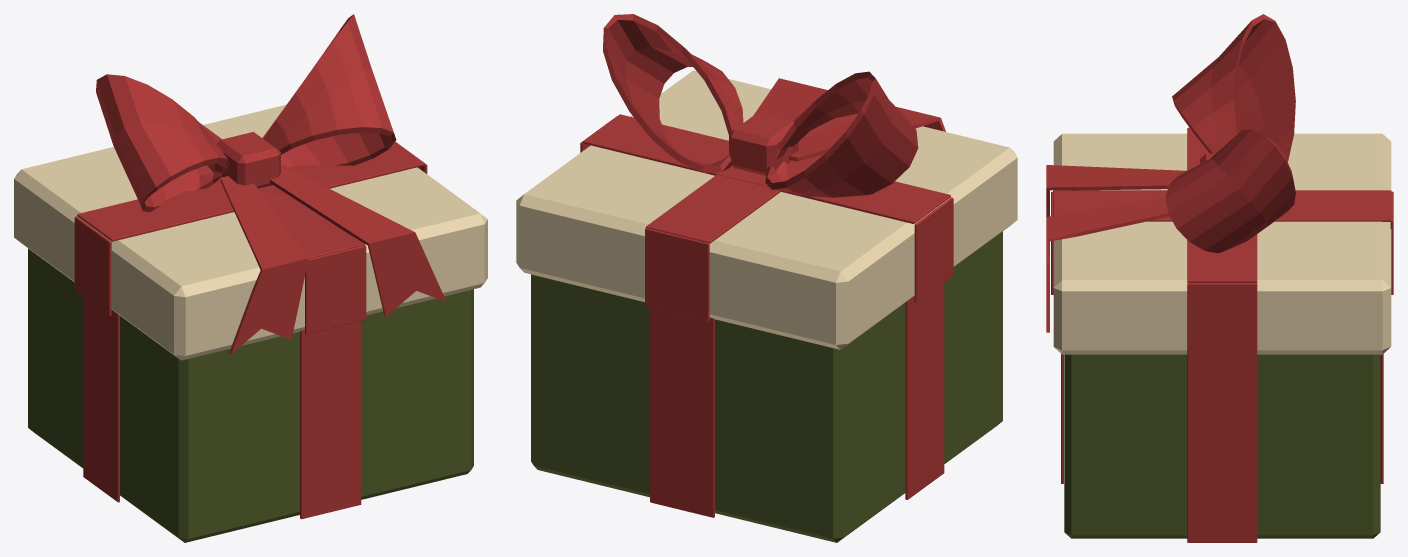
The model's file is 10 Christmas Gift Box.glb.
3 views of the same model, side by side, from view 1: azimuth 30°, elevation 25°; view 2: azimuth 150°, elevation 25°; view 3: azimuth 270°, elevation 25° (orthographic). The views are drawn at different scales.
Parts seen in each view (by area): view 1: Green box, Ivory lid, Vertical red wrapping.001, Folded dimensional red bow loop.001, Folded dimensional red bow loop, Draped red bow tail.001, Draped red bow tail, Top ribbon east west, Side red wrapping.001, Lid ribbon edge.001, Lid side ribbon.001, Top ribbon north south (+1 smaller); view 2: Green box, Ivory lid, Vertical red wrapping, Folded dimensional red bow loop, Folded dimensional red bow loop.001, Side red wrapping.001, Top ribbon east west, Lid ribbon edge, Top ribbon north south, Lid side ribbon.001, Bow central knot, Draped red bow tail.001 (+1 smaller); view 3: Green box, Ivory lid, Side red wrapping, Folded dimensional red bow loop, Folded dimensional red bow loop.001, Top ribbon north south, Lid side ribbon, Draped red bow tail.001, Top ribbon east west, Draped red bow tail, Vertical red wrapping.
Boxes of the visible parts, x1,y1,x2,y2 form: Green box: [28, 248, 473, 542]; Ivory lid: [14, 104, 487, 360]; Vertical red wrapping.001: [300, 321, 361, 519]; Folded dimensional red bow loop.001: [262, 14, 396, 167]; Folded dimensional red bow loop: [96, 74, 229, 212]; Draped red bow tail.001: [270, 164, 446, 316]; Draped red bow tail: [220, 176, 308, 354]; Top ribbon east west: [77, 142, 424, 241]; Side red wrapping.001: [83, 297, 119, 502]; Lid ribbon edge.001: [305, 245, 366, 334]; Lid side ribbon.001: [74, 216, 111, 315]; Top ribbon north south: [199, 122, 365, 258]; Green box: [531, 231, 1002, 542]; Ivory lid: [516, 70, 1017, 349]; Vertical red wrapping: [650, 308, 714, 517]; Folded dimensional red bow loop: [765, 71, 918, 197]; Folded dimensional red bow loop.001: [603, 14, 743, 172]; Side red wrapping.001: [905, 283, 944, 499]; Top ribbon east west: [583, 114, 950, 223]; Lid ribbon edge: [645, 228, 709, 321]; Top ribbon north south: [646, 113, 858, 243]; Lid side ribbon.001: [914, 197, 953, 302]; Bow central knot: [729, 112, 798, 175]; Draped red bow tail.001: [753, 78, 827, 122]; Green box: [1064, 354, 1380, 538]; Ivory lid: [1053, 133, 1391, 354]; Side red wrapping: [1187, 358, 1257, 542]; Folded dimensional red bow loop: [1172, 14, 1295, 161]; Folded dimensional red bow loop.001: [1165, 129, 1295, 253]; Top ribbon north south: [1053, 190, 1391, 221]; Lid side ribbon: [1187, 283, 1257, 357]; Draped red bow tail.001: [1046, 198, 1169, 332]; Top ribbon east west: [1187, 127, 1257, 282]; Draped red bow tail: [1046, 165, 1186, 216]; Vertical red wrapping: [1380, 354, 1383, 483].
Size of the model in its own units: 4.31 by 5.1 by 4.06.
